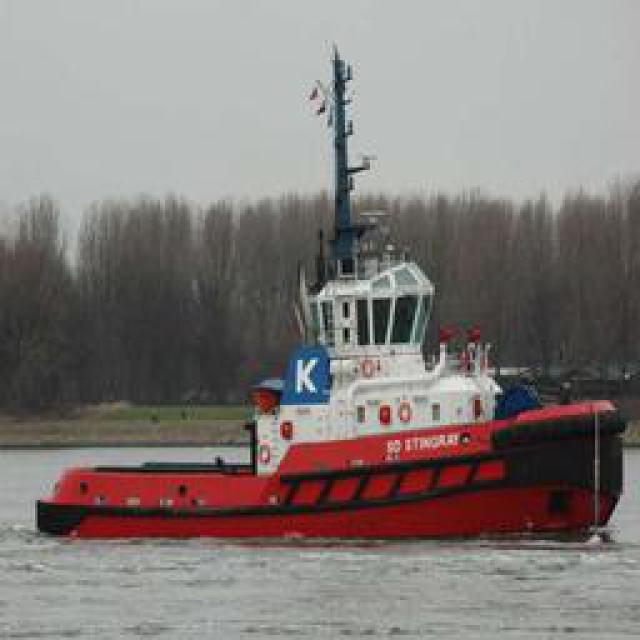Ship: (32, 265, 630, 545)
